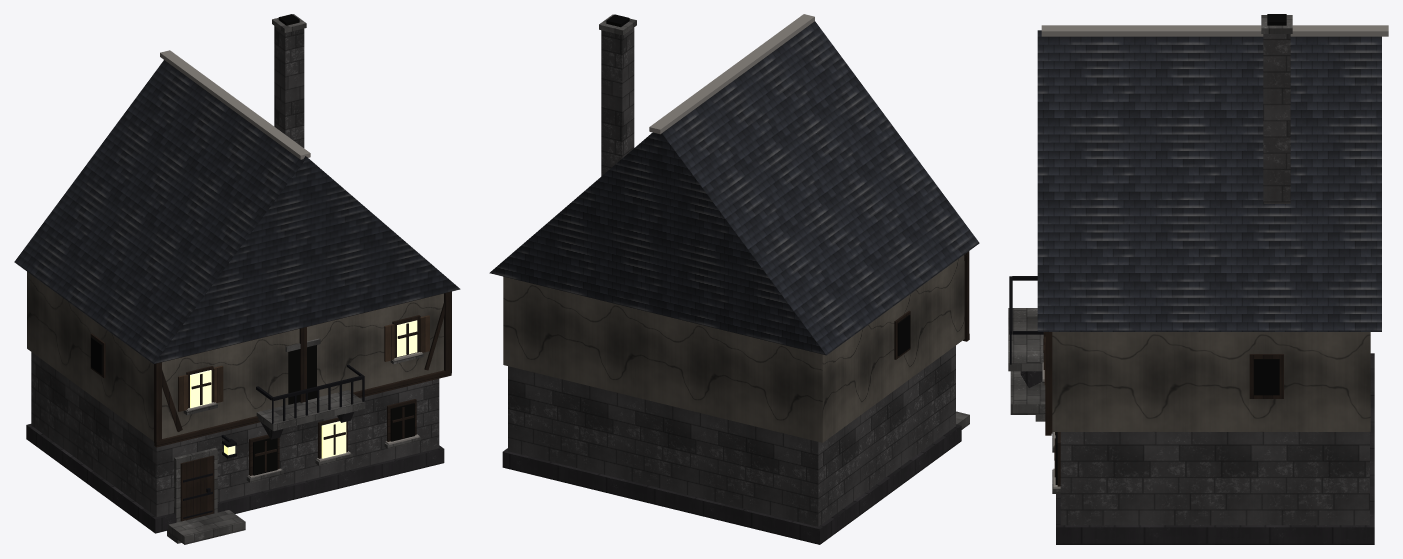
Rendered from CasaB16.gltf.
The picture shows the model from 3 angles, left to right: view 1: azimuth 30°, elevation 25°; view 2: azimuth 150°, elevation 25°; view 3: azimuth 270°, elevation 25°; orthographic projection. The views are drawn at different scales.
Visible parts, largest first — view 1: CasaB16; view 2: CasaB16; view 3: CasaB16.
Part boxes in pixels (bbox=[...]): CasaB16: bbox=[14, 14, 460, 544]; CasaB16: bbox=[489, 14, 979, 544]; CasaB16: bbox=[1008, 14, 1388, 544].
Size of the model in its own units: 12.2 by 15.29 by 10.61.
11 materials, 7 textured.
